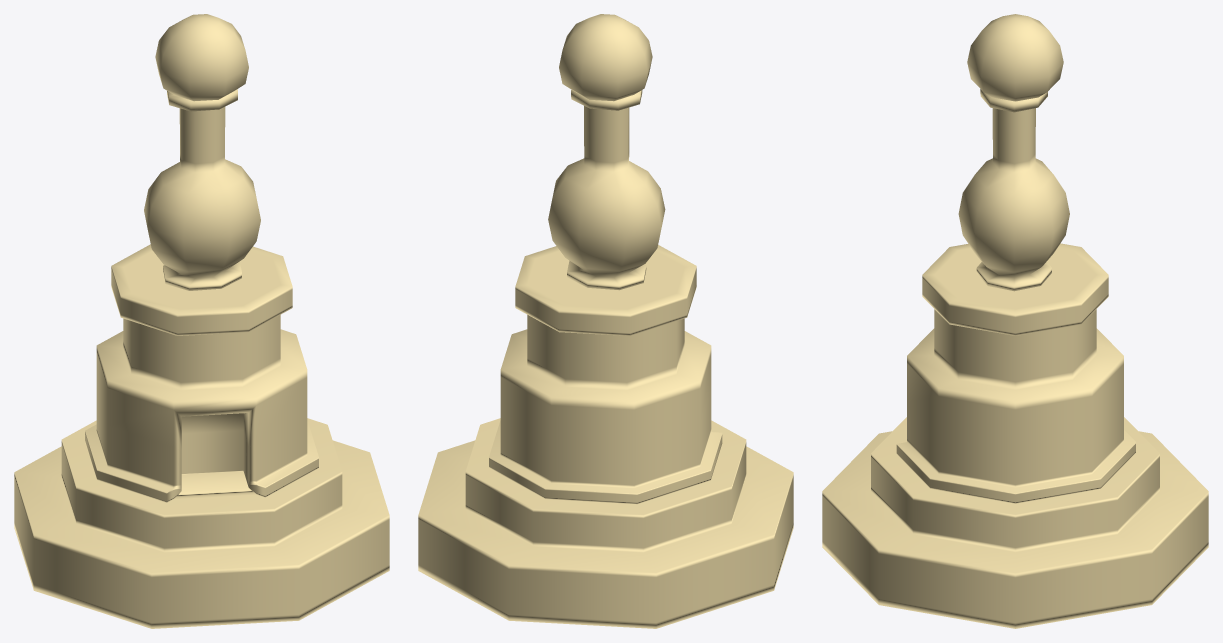
The model's file is Caballo_alqui.fbx.
3 views of the same model, side by side, from view 1: azimuth 30°, elevation 25°; view 2: azimuth 150°, elevation 25°; view 3: azimuth 270°, elevation 25° (orthographic).
Parts seen in each view (by area): view 1: Base_Caballlo1; view 2: Base_Caballlo1; view 3: Base_Caballlo1.
Part boxes in pixels (box(x1,y1,x2,y2)): Base_Caballlo1: box(14, 14, 389, 628); Base_Caballlo1: box(418, 14, 793, 628); Base_Caballlo1: box(822, 14, 1208, 628).
Bounding box in the file's own units: 6.02 × 9.09 × 6.02.
